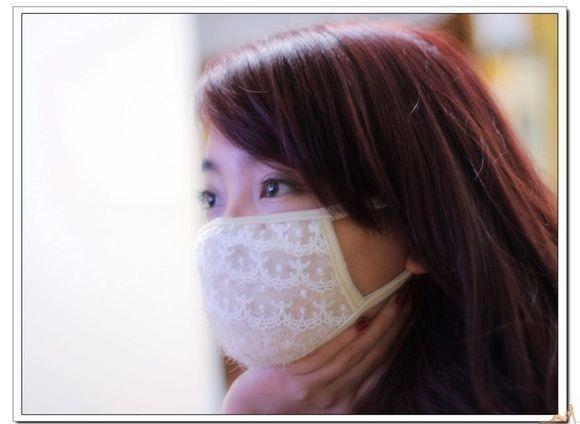OK: (196, 155, 398, 370)
